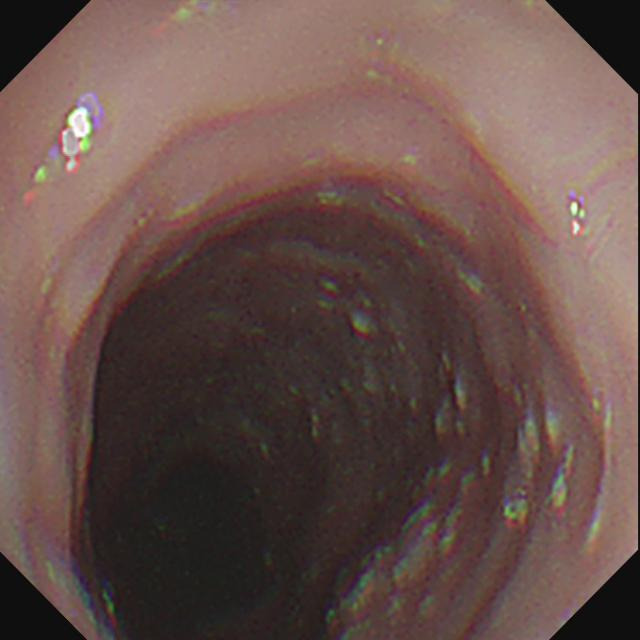E: (70, 399, 321, 639)
J: (321, 456, 494, 632)
U: (61, 94, 100, 174), (571, 200, 588, 236)
